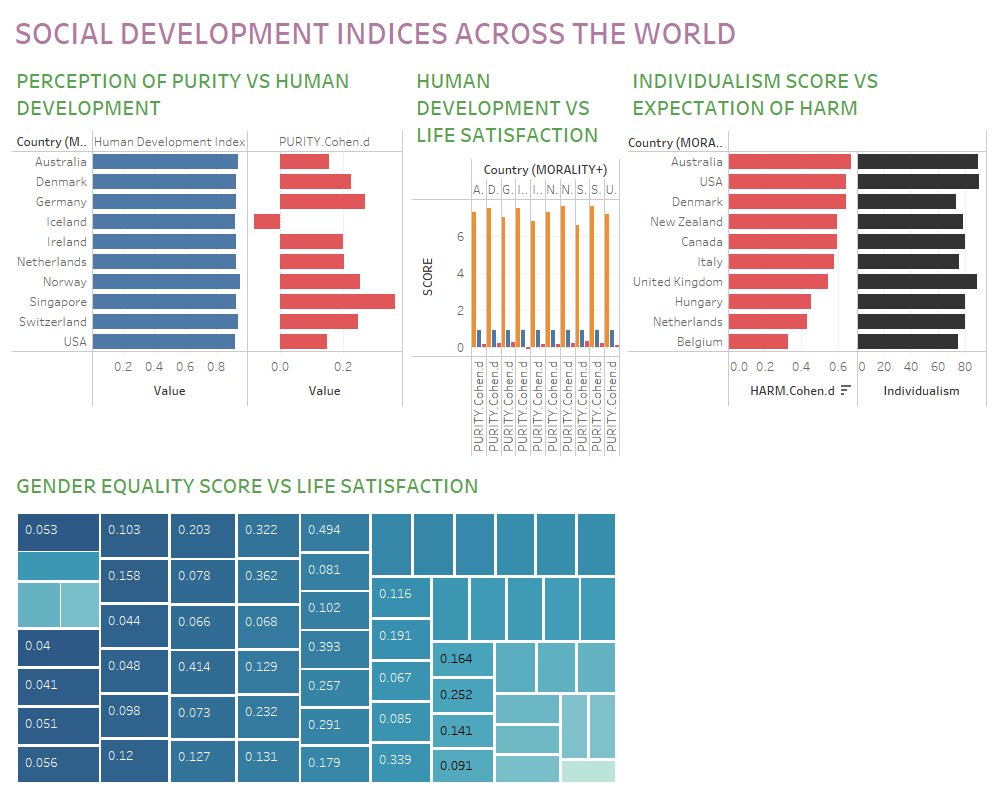

The page's visual inventory and layout, read from the dashboard file:
{"tool":"tableau","page":{"name":"SOCIAL DEVELOPMENT INDICES ACROSS THE WORLD","canvas":[1000,800],"ordinal":0},"visuals":[{"type":"title","box":[8,8,984,48]},{"type":"worksheet","title":"HUMAN  DEVELOPMENT VS SATISFACTION (2)","mark":"Automatic","rows":["Country (MORALITY+)"],"box":[8,56,400,355]},{"type":"worksheet","title":"HUMAN  DEVELOPMENT VS SATISFACTION","mark":"Automatic","cols":["Country (MORALITY+)"],"box":[408,56,216,405]},{"type":"worksheet","title":"HARM VS INDIVIDUALISM","mark":"Automatic","rows":["Country (MORALITY+)"],"cols":["HARM.Cohen.d","Individualism"],"box":[624,56,368,355]},{"type":"worksheet","title":"GENDER EQUALITY VS LIFE SATISFACTION","mark":"Automatic","box":[8,461,616,331]}]}

Visuals, with their boxes in screenshot pixels (x1, y1, x2, y2), scaled from the page's 1000x800 canvas onto the 1000x800 screenshot:
title: 8/8/992/56
"HUMAN  DEVELOPMENT VS SATISFACTION (2)" worksheet: 8/56/408/411
"HUMAN  DEVELOPMENT VS SATISFACTION" worksheet: 408/56/624/461
"HARM VS INDIVIDUALISM" worksheet: 624/56/992/411
"GENDER EQUALITY VS LIFE SATISFACTION" worksheet: 8/461/624/792
